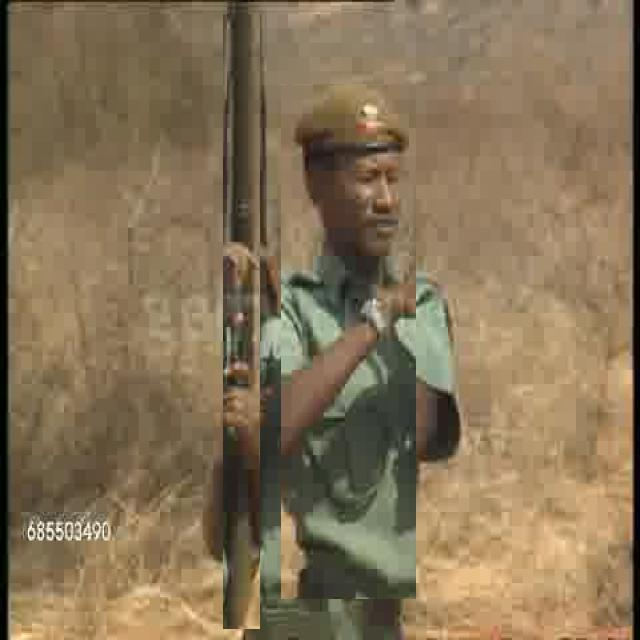poacher: (281, 84, 416, 599)
weapon: (223, 2, 260, 629)
